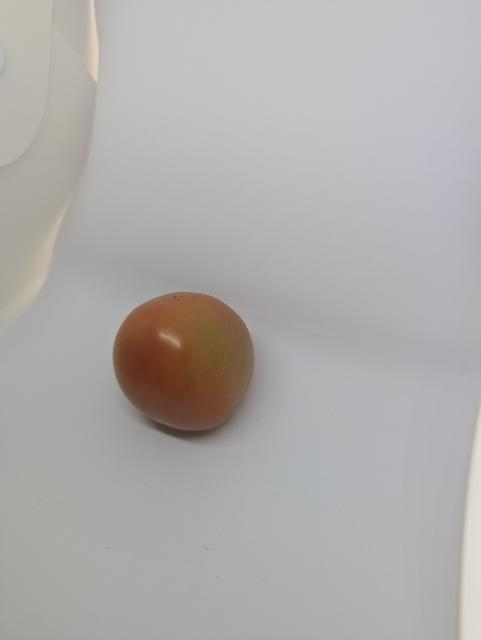turning: (111, 284, 264, 447)
